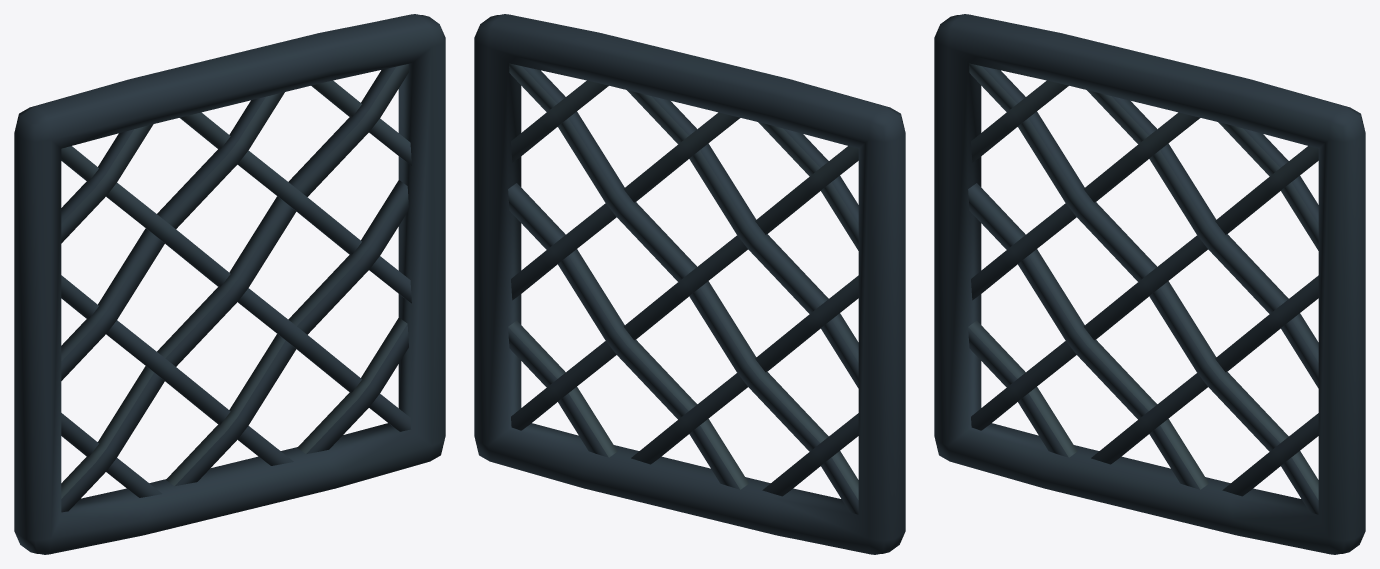
Rendered from Metal_Fence_Grid_Frame.fbx.
3 renders of one model, left to right at view 1: azimuth 30°, elevation 25°; view 2: azimuth 150°, elevation 25°; view 3: azimuth 330°, elevation 25°, orthographic.
Visible parts, largest first — view 1: Metal_Fence_Grid_Frame_LOD0; view 2: Metal_Fence_Grid_Frame_LOD0; view 3: Metal_Fence_Grid_Frame_LOD0.
Boxes of the visible parts, bbox=[...] form: Metal_Fence_Grid_Frame_LOD0: bbox=[14, 14, 445, 554]; Metal_Fence_Grid_Frame_LOD0: bbox=[474, 14, 905, 554]; Metal_Fence_Grid_Frame_LOD0: bbox=[934, 14, 1365, 554].
Size of what is drawn, in the model's own units: 1.07 by 1.08 by 0.1127.
